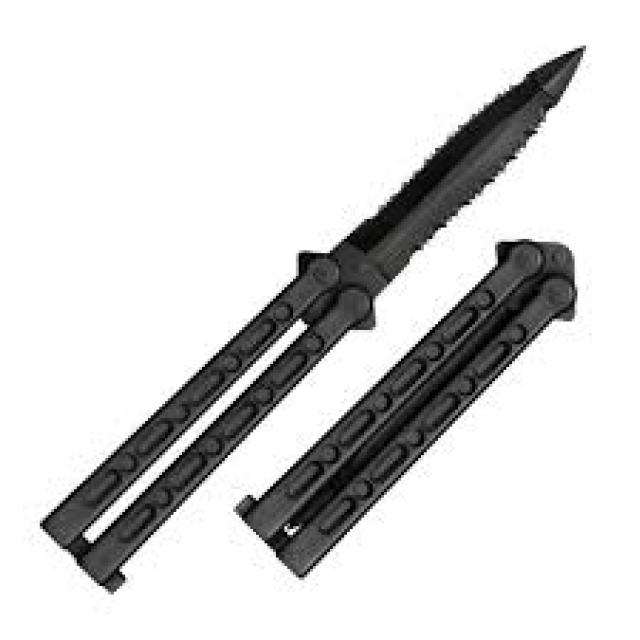knives: (34, 37, 592, 594), (231, 231, 583, 583)
